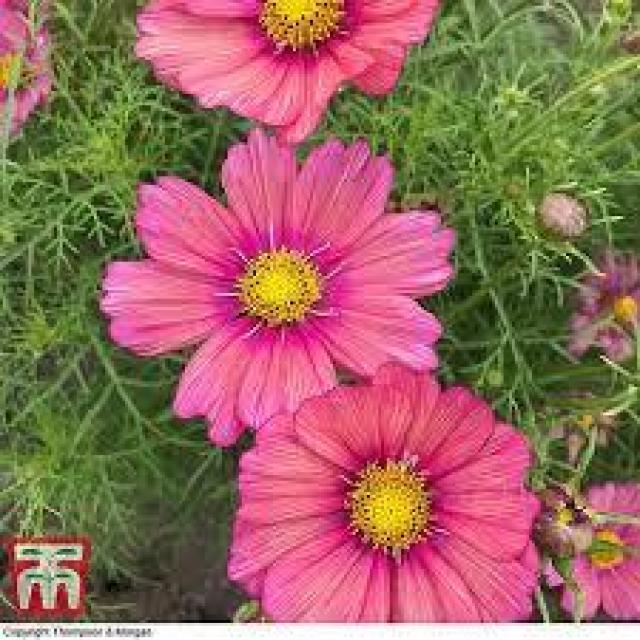organic waste: (98, 137, 451, 435), (228, 357, 543, 619), (143, 5, 440, 130), (554, 477, 640, 617)
